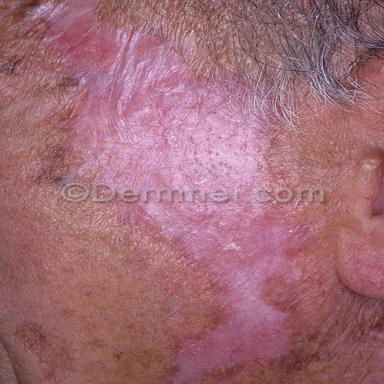Lupus-Erythematosus-Chronicus-Discoides: (20, 0, 270, 191), (131, 204, 308, 384)
